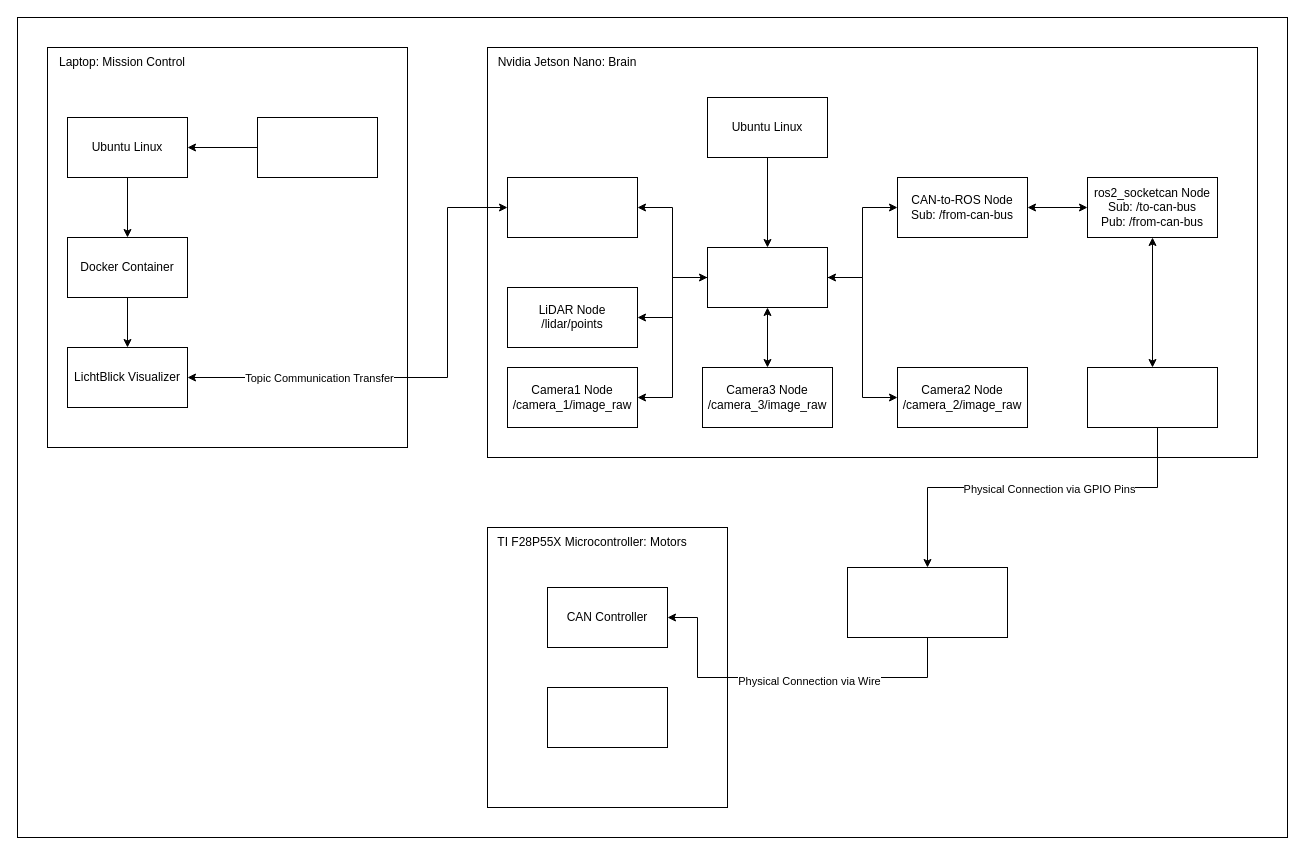
This 1305x855 diagram has some shape labels left out. Each missing label, with the centre of its shape:
CAN Transceiver Board: MCU to Jetson Bridge: the point at 927,602
FoxGlove Bridge (Websocket): the point at 572,207
Gamepad Controller: the point at 317,147
Motor Driver Code: the point at 607,717
ROS 2 Jazzy: the point at 767,277
SocketCAN: the point at 1152,397
